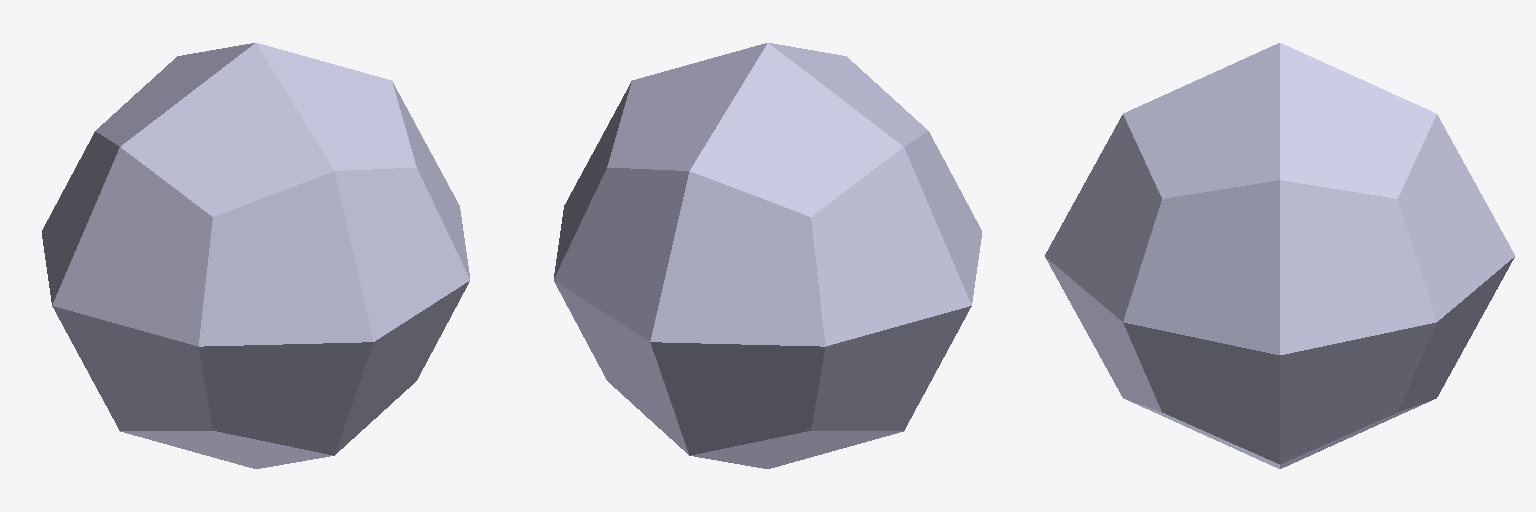
Rendered from tsavorite.obj.
The picture shows the model from 3 angles: view 1: azimuth 30°, elevation 25°; view 2: azimuth 150°, elevation 25°; view 3: azimuth 270°, elevation 25°; orthographic projection.
Bounding box in the file's own units: 1.47 × 1.47 × 1.47.